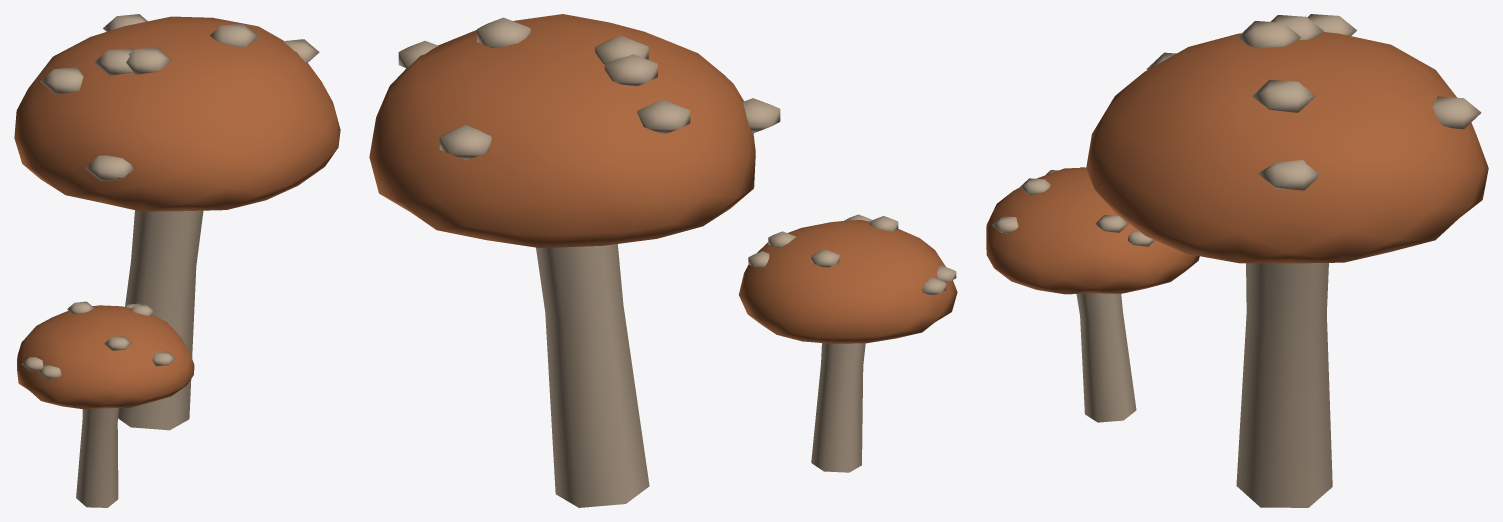
Rendered from red_mushroom_1_burnt1.glb.
3 renders of one model, left to right at view 1: azimuth 30°, elevation 25°; view 2: azimuth 150°, elevation 25°; view 3: azimuth 270°, elevation 25°, orthographic. The views are drawn at different scales.
Visible parts, largest first — view 1: red_mushroom_1_burnt1; view 2: red_mushroom_1_burnt1; view 3: red_mushroom_1_burnt1.
Part boxes in pixels (x1,y1,x2,y2): red_mushroom_1_burnt1: [14, 14, 340, 507]; red_mushroom_1_burnt1: [369, 14, 957, 507]; red_mushroom_1_burnt1: [986, 14, 1488, 507].
Bounding box in the file's own units: 0.3432 × 0.3275 × 0.3257.
